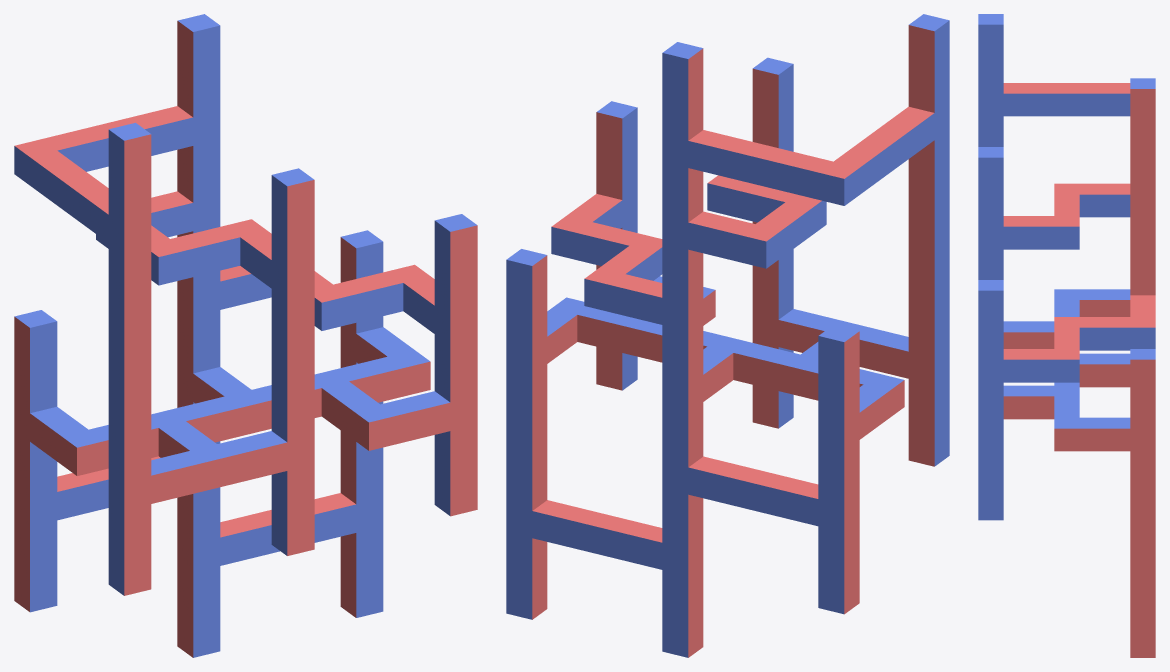
Rendered from dj_6_blockgraph.dae.
The picture shows the model from 3 angles, left to right: view 1: azimuth 30°, elevation 25°; view 2: azimuth 150°, elevation 25°; view 3: azimuth 270°, elevation 25°; orthographic projection. The views are drawn at different scales.
Parts seen in each view (by area): view 1: ZXO (×24), XZO (×20), OZX (×14), OXZ (×10), ZXZ (×12), XOZ (×7), XZZ (×6), XZX (×6), ZOX (×5), XXZ (×5), ZXX (×3), ZZX (×2); view 2: XZO (×28), OZX (×19), ZXO (×16), XZX (×11), OXZ (×7), ZXZ (×10), XZZ (×9), ZOX (×8), ZZX (×5), XOZ (×3), XXZ (×2); view 3: ZOX (×12), XOZ (×10), XZO (×7), ZXO (×7), ZXZ (×8), ZZX (×8), XZZ (×6), ZXX (×5), XZX (×4), OZX (×3), XXZ (×4), OXZ (×2).
Boxes of the visible parts, x1,y1,x2,y2 form: ZXO (×24): [108, 158, 477, 567]; XZO (×20): [14, 49, 383, 629]; OZX (×14): [42, 106, 403, 565]; OXZ (×10): [151, 356, 450, 503]; ZXZ (×12): [124, 134, 477, 595]; XOZ (×7): [30, 327, 414, 464]; XZZ (×6): [30, 25, 383, 657]; XZX (×6): [30, 111, 383, 572]; ZOX (×5): [30, 150, 434, 333]; XXZ (×5): [77, 361, 430, 490]; ZXX (×3): [124, 219, 477, 345]; ZZX (×2): [158, 250, 348, 330]; XZO (×28): [506, 76, 859, 630]; OZX (×19): [532, 130, 832, 569]; ZXO (×16): [596, 48, 949, 439]; XZX (×11): [506, 134, 844, 575]; OXZ (×7): [577, 309, 908, 392]; ZXZ (×10): [596, 25, 934, 466]; XZZ (×9): [506, 53, 844, 657]; ZOX (×8): [567, 106, 934, 273]; ZZX (×5): [551, 172, 844, 311]; XOZ (×3): [547, 315, 889, 439]; XXZ (×2): [629, 327, 811, 398]; ZOX (×12): [1003, 83, 1130, 382]; XOZ (×10): [1003, 289, 1130, 451]; XZO (×7): [1130, 112, 1155, 634]; ZXO (×7): [978, 47, 1003, 497]; ZXZ (×8): [978, 14, 1003, 520]; ZZX (×8): [1054, 183, 1155, 382]; XZZ (×6): [1130, 78, 1155, 657]; ZXX (×5): [978, 83, 1079, 382]; XZX (×4): [1130, 157, 1155, 588]; OZX (×3): [1054, 194, 1155, 348]; XXZ (×4): [1054, 289, 1079, 451]; OXZ (×2): [1054, 300, 1079, 417].
Bounding box in the file's own units: 13 × 7 × 22.
